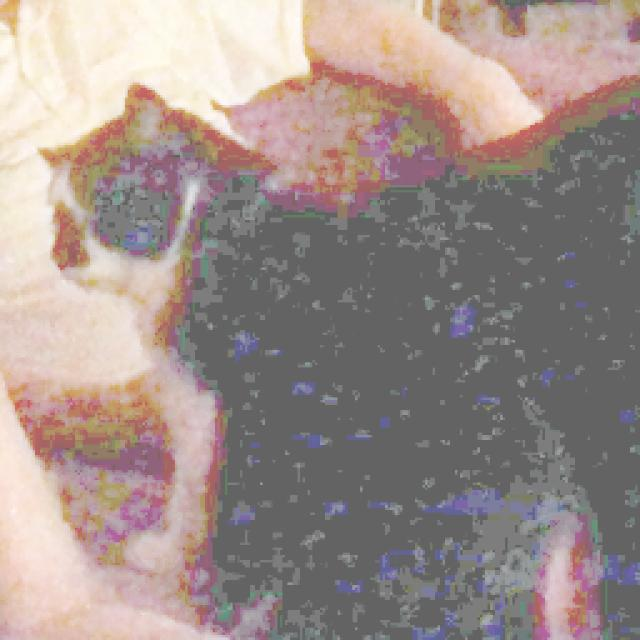cat: (29, 82, 433, 575)
